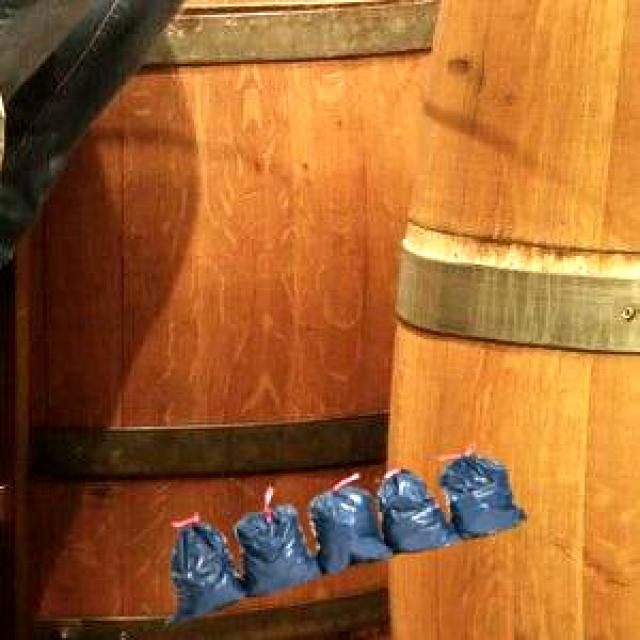Garbage_Bag: (163, 450, 524, 620)
